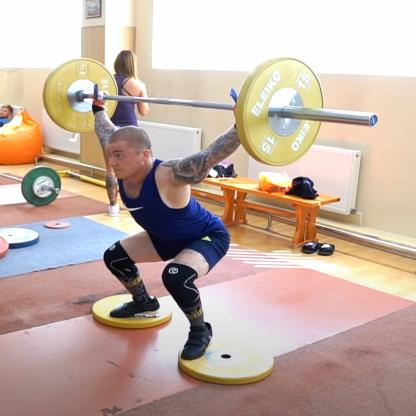barbell: (241, 57, 326, 168), (46, 58, 120, 134)
